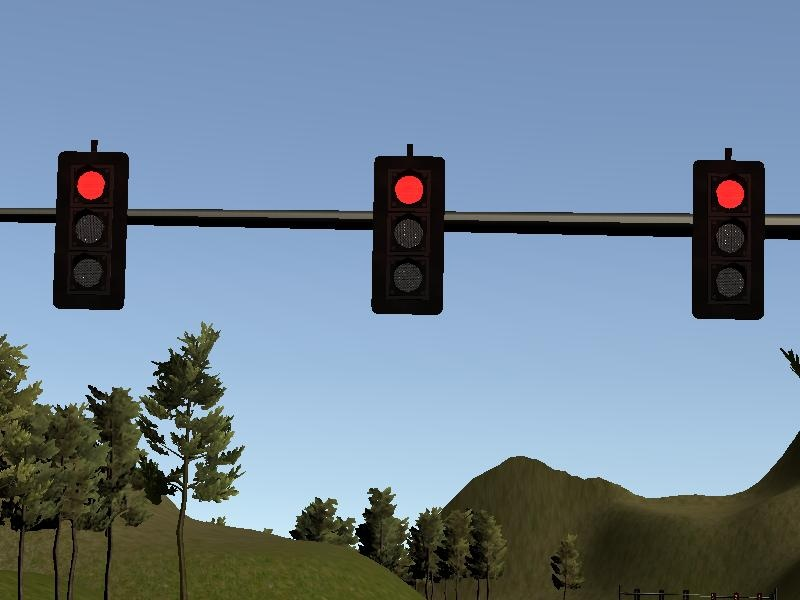red: (373, 157, 447, 314), (54, 153, 126, 313), (693, 160, 764, 321)
